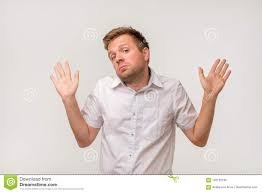white_male: (103, 37, 154, 87)
